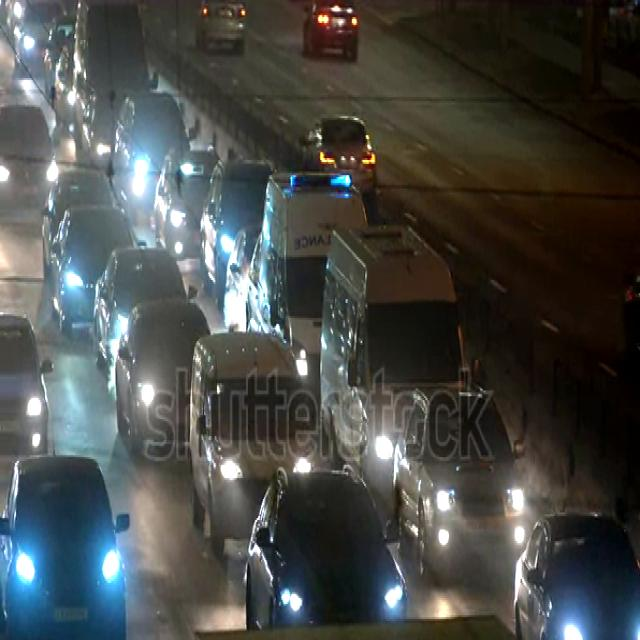ambulance: (258, 170, 372, 400)
